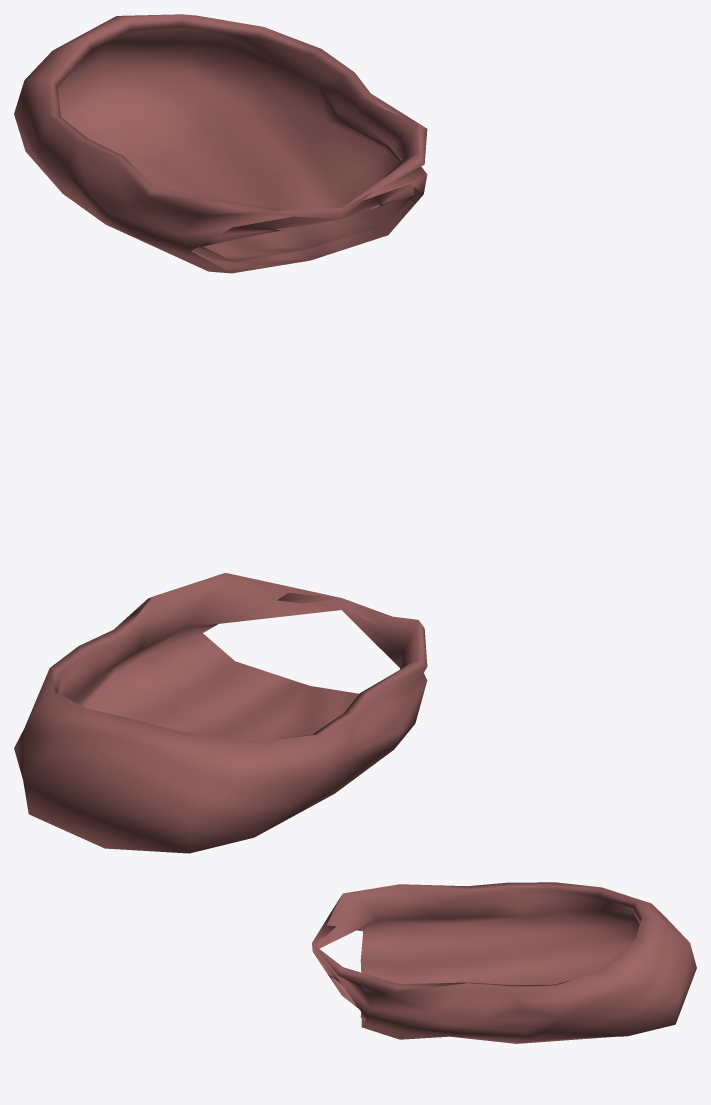
Rendered from HoodRogue_Ground.fbx.
3 renders of one model, top to bottom at view 1: azimuth 30°, elevation 25°; view 2: azimuth 150°, elevation 25°; view 3: azimuth 270°, elevation 25°, orthographic. The views are drawn at different scales.
Parts seen in each view (by area): view 1: châle; view 2: châle; view 3: châle.
Boxes of the visible parts, left/top/right/bottom form: châle: left=14, top=14, right=427, bottom=273; châle: left=14, top=573, right=427, bottom=853; châle: left=312, top=882, right=696, bottom=1043.
Size of the model in its own units: 19.25 by 6.06 by 34.22.
